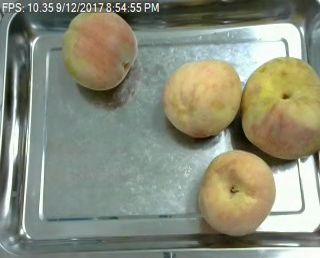Peach: (239, 54, 319, 158), (198, 149, 276, 235), (62, 7, 137, 91), (163, 58, 241, 137)
